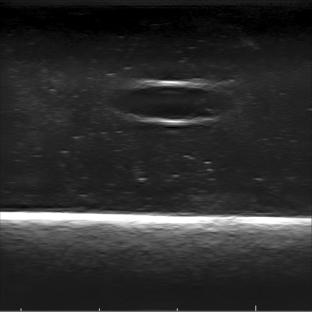vessel: (117, 80, 232, 126)
